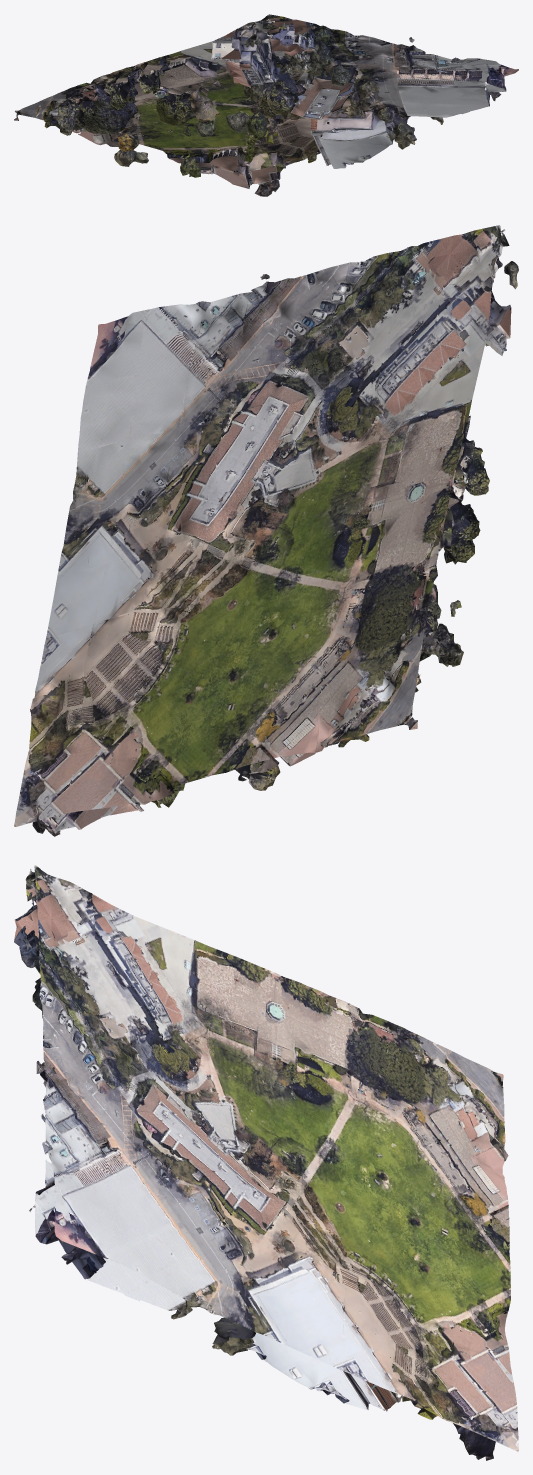
Rendered from chadwick1.fbx.
3 views of the same model, one above another, from view 1: azimuth 30°, elevation 25°; view 2: azimuth 150°, elevation 25°; view 3: azimuth 270°, elevation 25° (orthographic). The views are drawn at different scales.
Visible parts, largest first — view 1: planet_20527051514143452206_0, planet_20527051514143452226_0, planet_20527051514143452214_0, planet_20527051514143452232_0, planet_20527051514143452225_0, planet_20527051514143452224_0, planet_20527051514143452233_0, planet_20527051514143452215_0, planet_20527051514143452205_0, planet_20527051514143452204_0, planet_20527051514143452207_0, planet_20527051514143452235_0 (+14 smaller); view 2: planet_20527051514143452206_0, planet_20527051514143452204_0, planet_20527051514143452233_0, planet_20527051514143452205_0, planet_20527051514143452223_0, planet_20527051514143452214_0, planet_20527051514143452232_0, planet_20527051514143452213_0, planet_20527051514143452231_0, planet_20527051514143452224_0, planet_20527051514143452230_0, planet_20527051514143452225_0 (+10 smaller); view 3: planet_20527051514143452233_0, planet_20527051514143452231_0, planet_20527051514143452206_0, planet_20527051514143452204_0, planet_20527051514143452207_0, planet_20527051514143452214_0, planet_20527051514143452232_0, planet_20527051514143452213_0, planet_20527051514143452224_0, planet_20527051514143452205_0, planet_20527051514143452223_0, planet_20527051514143452225_0 (+14 smaller).
Boxes of the visible parts, x1,y1,x2,y2 form: planet_20527051514143452206_0: [76, 63, 203, 134]; planet_20527051514143452226_0: [205, 17, 329, 80]; planet_20527051514143452214_0: [140, 124, 264, 177]; planet_20527051514143452232_0: [342, 37, 455, 92]; planet_20527051514143452225_0: [204, 58, 327, 137]; planet_20527051514143452224_0: [140, 47, 265, 103]; planet_20527051514143452233_0: [393, 58, 518, 115]; planet_20527051514143452215_0: [207, 137, 316, 195]; planet_20527051514143452205_0: [78, 104, 198, 166]; planet_20527051514143452204_0: [14, 85, 140, 135]; planet_20527051514143452207_0: [141, 84, 261, 136]; planet_20527051514143452235_0: [339, 100, 443, 149]; planet_20527051514143452206_0: [332, 473, 480, 627]; planet_20527051514143452204_0: [315, 595, 463, 752]; planet_20527051514143452233_0: [78, 301, 203, 451]; planet_20527051514143452205_0: [212, 623, 333, 790]; planet_20527051514143452223_0: [279, 251, 401, 402]; planet_20527051514143452214_0: [118, 651, 237, 812]; planet_20527051514143452232_0: [178, 274, 301, 426]; planet_20527051514143452213_0: [33, 550, 156, 699]; planet_20527051514143452231_0: [57, 426, 178, 577]; planet_20527051514143452224_0: [360, 360, 489, 503]; planet_20527051514143452230_0: [155, 402, 280, 550]; planet_20527051514143452225_0: [261, 377, 380, 529]; planet_20527051514143452233_0: [33, 1145, 171, 1305]; planet_20527051514143452231_0: [154, 1197, 286, 1344]; planet_20527051514143452206_0: [268, 970, 390, 1117]; planet_20527051514143452204_0: [387, 1021, 508, 1173]; planet_20527051514143452207_0: [268, 1068, 392, 1212]; planet_20527051514143452214_0: [391, 1212, 510, 1361]; planet_20527051514143452232_0: [36, 1052, 166, 1197]; planet_20527051514143452213_0: [281, 1250, 405, 1402]; planet_20527051514143452224_0: [146, 930, 269, 1068]; planet_20527051514143452205_0: [389, 1116, 510, 1264]; planet_20527051514143452223_0: [35, 959, 160, 1105]; planet_20527051514143452225_0: [153, 1013, 273, 1161].
Size of the model in its own units: 995 by 870 by 816.
